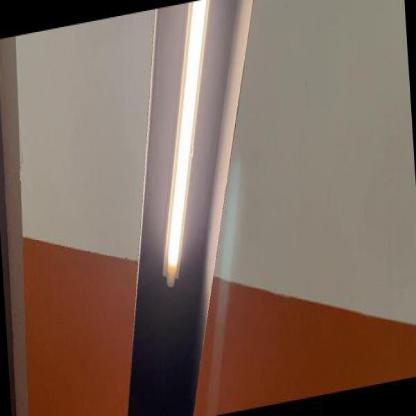light_on: (139, 0, 234, 314)
